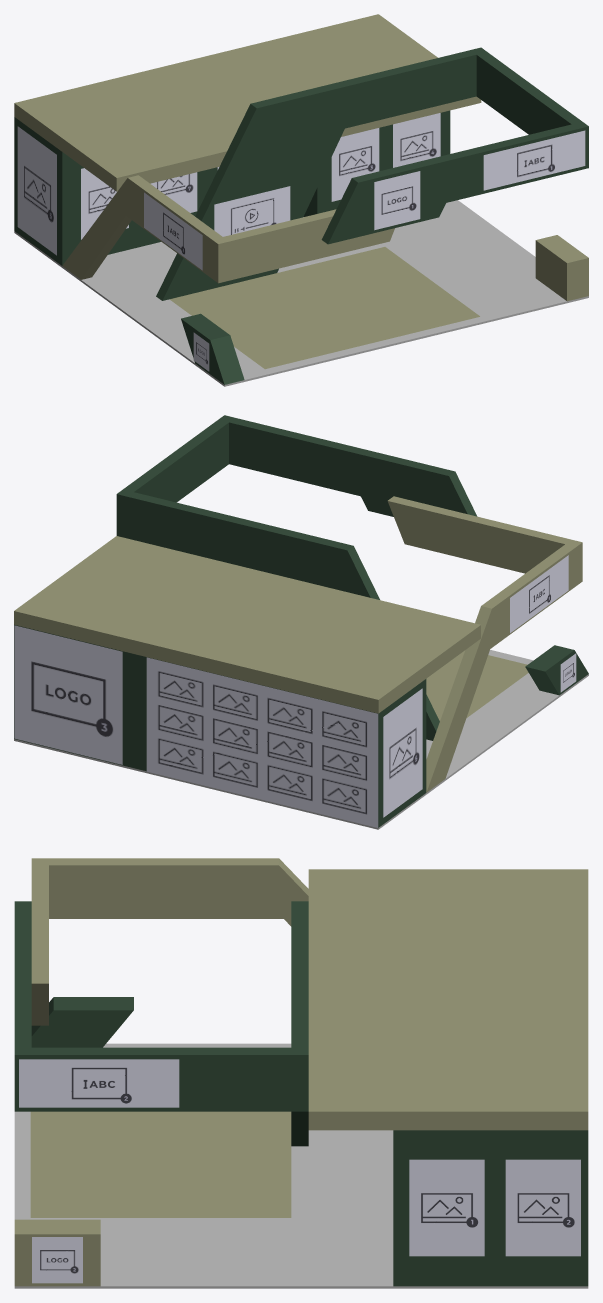
Rendered from stant53.gltf.
3 renders of one model, top to bottom at view 1: azimuth 30°, elevation 25°; view 2: azimuth 150°, elevation 25°; view 3: azimuth 270°, elevation 25°, orthographic. The views are drawn at different scales.
Parts seen in each view (by area): view 1: modrenk1, modrenk2, modzemin, moddikgorsel5, modyazi1, modvideo1, moddikgorsel3, modlogo1, modyazi3, moddikgorsel4, moddikgorsel6, moddikgorsel7 (+1 smaller); view 2: modrenk1, modrenk2, modgensigorsel, modlogo3, modzemin, moddikgorsel5, modyazi3; view 3: modrenk1, modrenk2, modzemin, modyazi2, moddikgorsel1, moddikgorsel2, modlogo2.
Boxes of the visible parts, x1=… form: modrenk1: x1=14, y1=14, x2=588, y2=369; modrenk2: x1=14, y1=47, x2=588, y2=384; modzemin: x1=14, y1=200, x2=588, y2=386; moddikgorsel5: x1=17, y1=126, x2=56, y2=255; modyazi1: x1=483, y1=130, x2=585, y2=190; modvideo1: x1=214, y1=186, x2=290, y2=236; moddikgorsel3: x1=331, y1=128, x2=379, y2=201; modlogo1: x1=374, y1=171, x2=420, y2=230; modyazi3: x1=144, y1=192, x2=202, y2=270; moddikgorsel4: x1=393, y1=113, x2=440, y2=167; moddikgorsel6: x1=81, y1=168, x2=128, y2=239; moddikgorsel7: x1=150, y1=172, x2=197, y2=212; modrenk1: x1=14, y1=496, x2=582, y2=792; modrenk2: x1=14, y1=415, x2=588, y2=827; modgensigorsel: x1=146, y1=657, x2=378, y2=827; modlogo3: x1=14, y1=625, x2=122, y2=764; modzemin: x1=14, y1=650, x2=588, y2=829; moddikgorsel5: x1=383, y1=688, x2=422, y2=817; modyazi3: x1=510, y1=555, x2=568, y2=632; modrenk1: x1=14, y1=858, x2=588, y2=1286; modrenk2: x1=14, y1=901, x2=588, y2=1286; modzemin: x1=14, y1=1043, x2=588, y2=1288; modyazi2: x1=19, y1=1059, x2=179, y2=1107; moddikgorsel1: x1=409, y1=1159, x2=484, y2=1256; moddikgorsel2: x1=505, y1=1159, x2=580, y2=1256; modlogo2: x1=32, y1=1237, x2=82, y2=1283.
Bounding box in the file's own units: 1.01 × 0.45 × 1.
20 materials, 17 textured.
